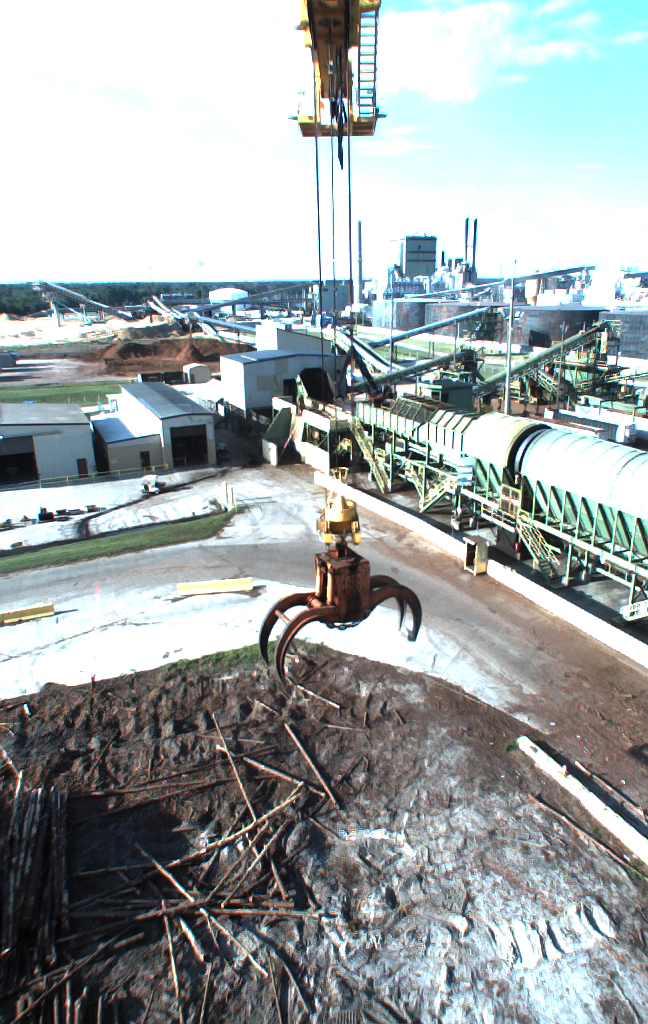grapple: (256, 550, 422, 679)
